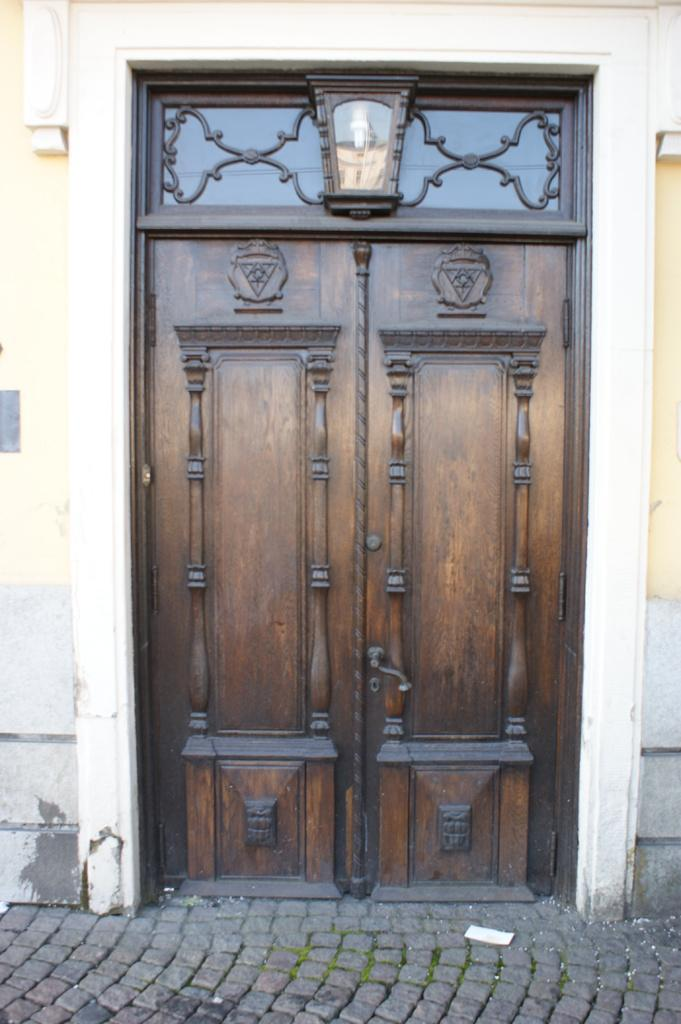door: (150, 239, 352, 883), (371, 250, 554, 876)
handle: (370, 651, 410, 694)
